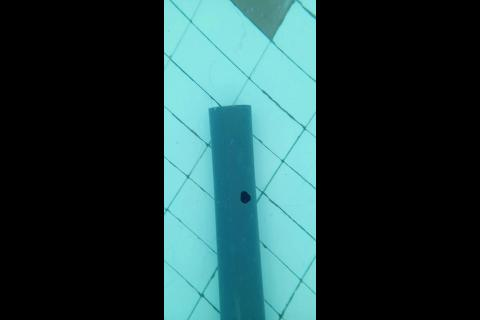kebocoran: (240, 189, 251, 203)
